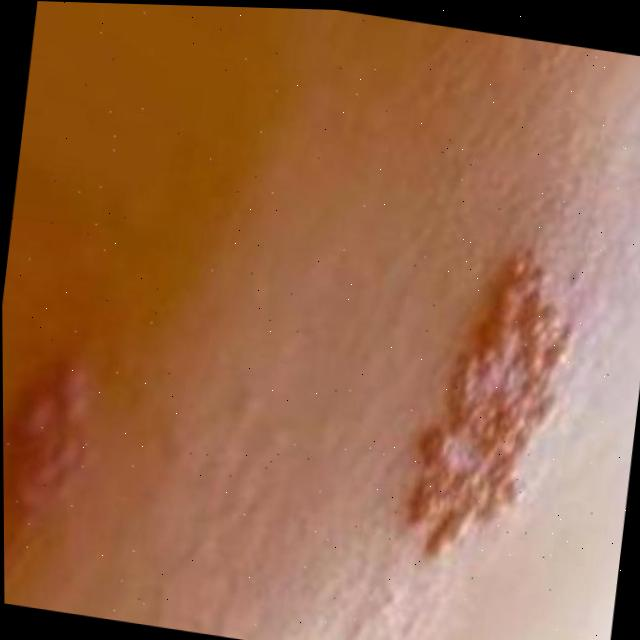Shingles: (402, 229, 569, 577), (3, 346, 112, 519)
